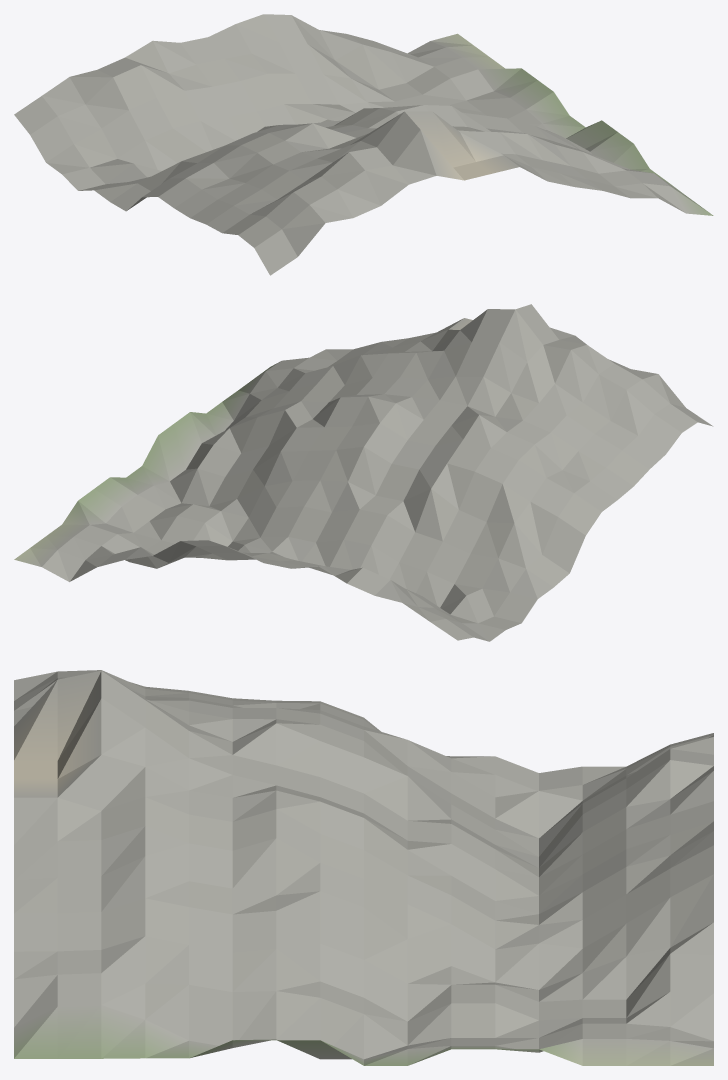
3 views of the same model, one above another, from view 1: azimuth 30°, elevation 25°; view 2: azimuth 150°, elevation 25°; view 3: azimuth 270°, elevation 25° (orthographic). The views are drawn at different scales.
Bounding box in the file's own units: 32 × 11.44 × 32.
